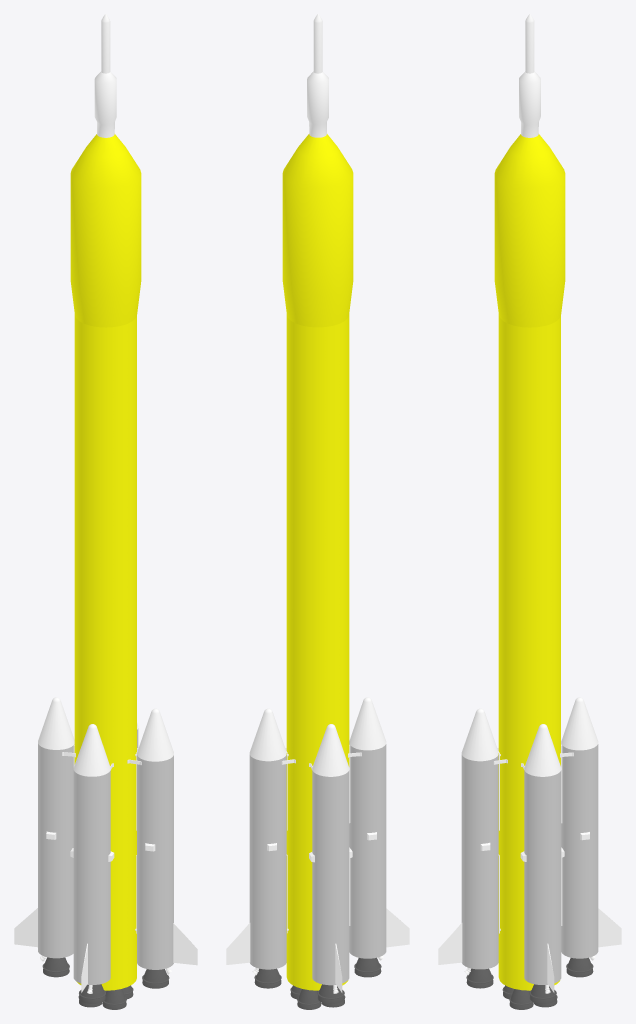
File: rocket_rocket_cz2f.glb
The picture shows the model from 3 angles, left to right: view 1: azimuth 30°, elevation 25°; view 2: azimuth 150°, elevation 25°; view 3: azimuth 330°, elevation 25°; orthographic projection.
Visible parts, largest first — view 1: rocket, zhutuiqi, taoyita; view 2: rocket, zhutuiqi, taoyita; view 3: rocket, zhutuiqi, taoyita.
Part boxes in pixels (x1,y1,x2,y2): rocket: (70, 134, 141, 990); zhutuiqi: (14, 697, 197, 1009); taoyita: (46, 14, 155, 933); rocket: (282, 134, 353, 990); zhutuiqi: (226, 697, 409, 1009); taoyita: (267, 14, 376, 933); rocket: (494, 134, 565, 990); zhutuiqi: (438, 697, 621, 1009); taoyita: (480, 14, 589, 933).
Bounding box in the file's own units: 0.2908 × 2.35 × 0.2908.
Materials: 7 (2 with a texture image).
